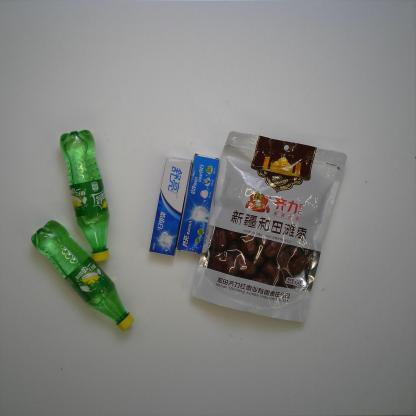Dried Food: (187, 130, 350, 325)
Drink: (29, 218, 136, 334), (57, 128, 112, 265)
Personal Hygiene: (146, 155, 194, 257), (175, 152, 221, 257)
